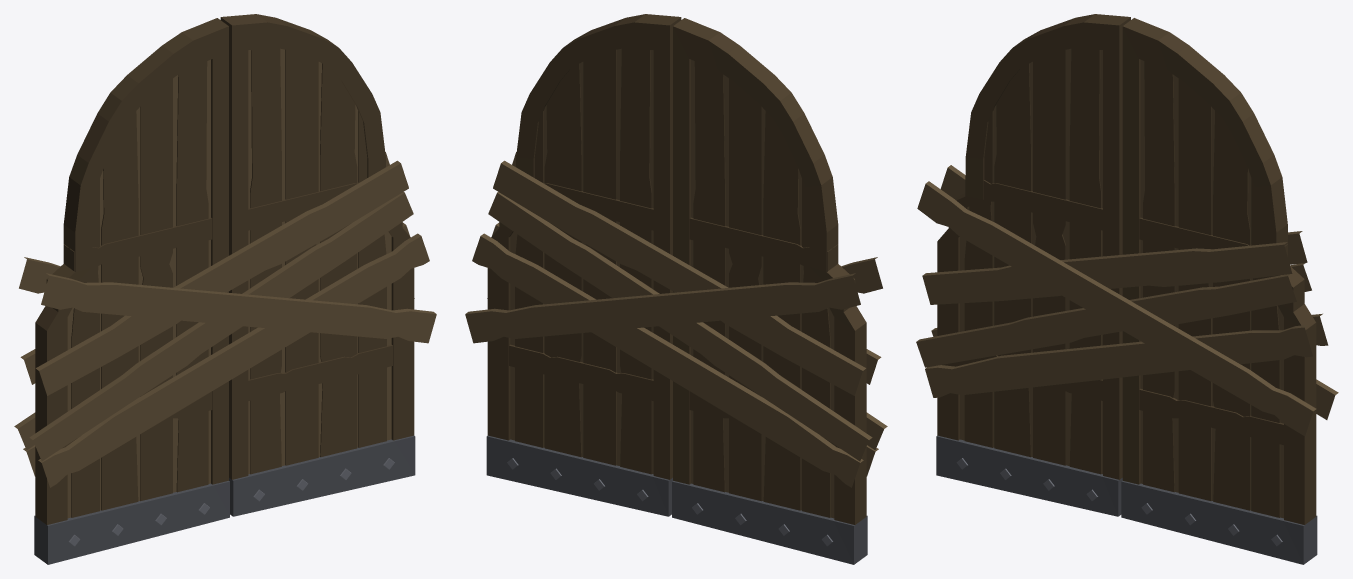
File: Doors_RoundArch_Covered.glb
3 renders of one model, left to right at view 1: azimuth 30°, elevation 25°; view 2: azimuth 150°, elevation 25°; view 3: azimuth 330°, elevation 25°, orthographic.
Parts seen in each view (by area): view 1: Doors_RoundArch_Covered; view 2: Doors_RoundArch_Covered; view 3: Doors_RoundArch_Covered.
Boxes of the visible parts, x1,y1,x2,y2 form: Doors_RoundArch_Covered: [14, 14, 436, 564]; Doors_RoundArch_Covered: [465, 14, 887, 564]; Doors_RoundArch_Covered: [916, 14, 1338, 564].
Bounding box in the file's own units: 2.52 × 2.97 × 0.2789.
